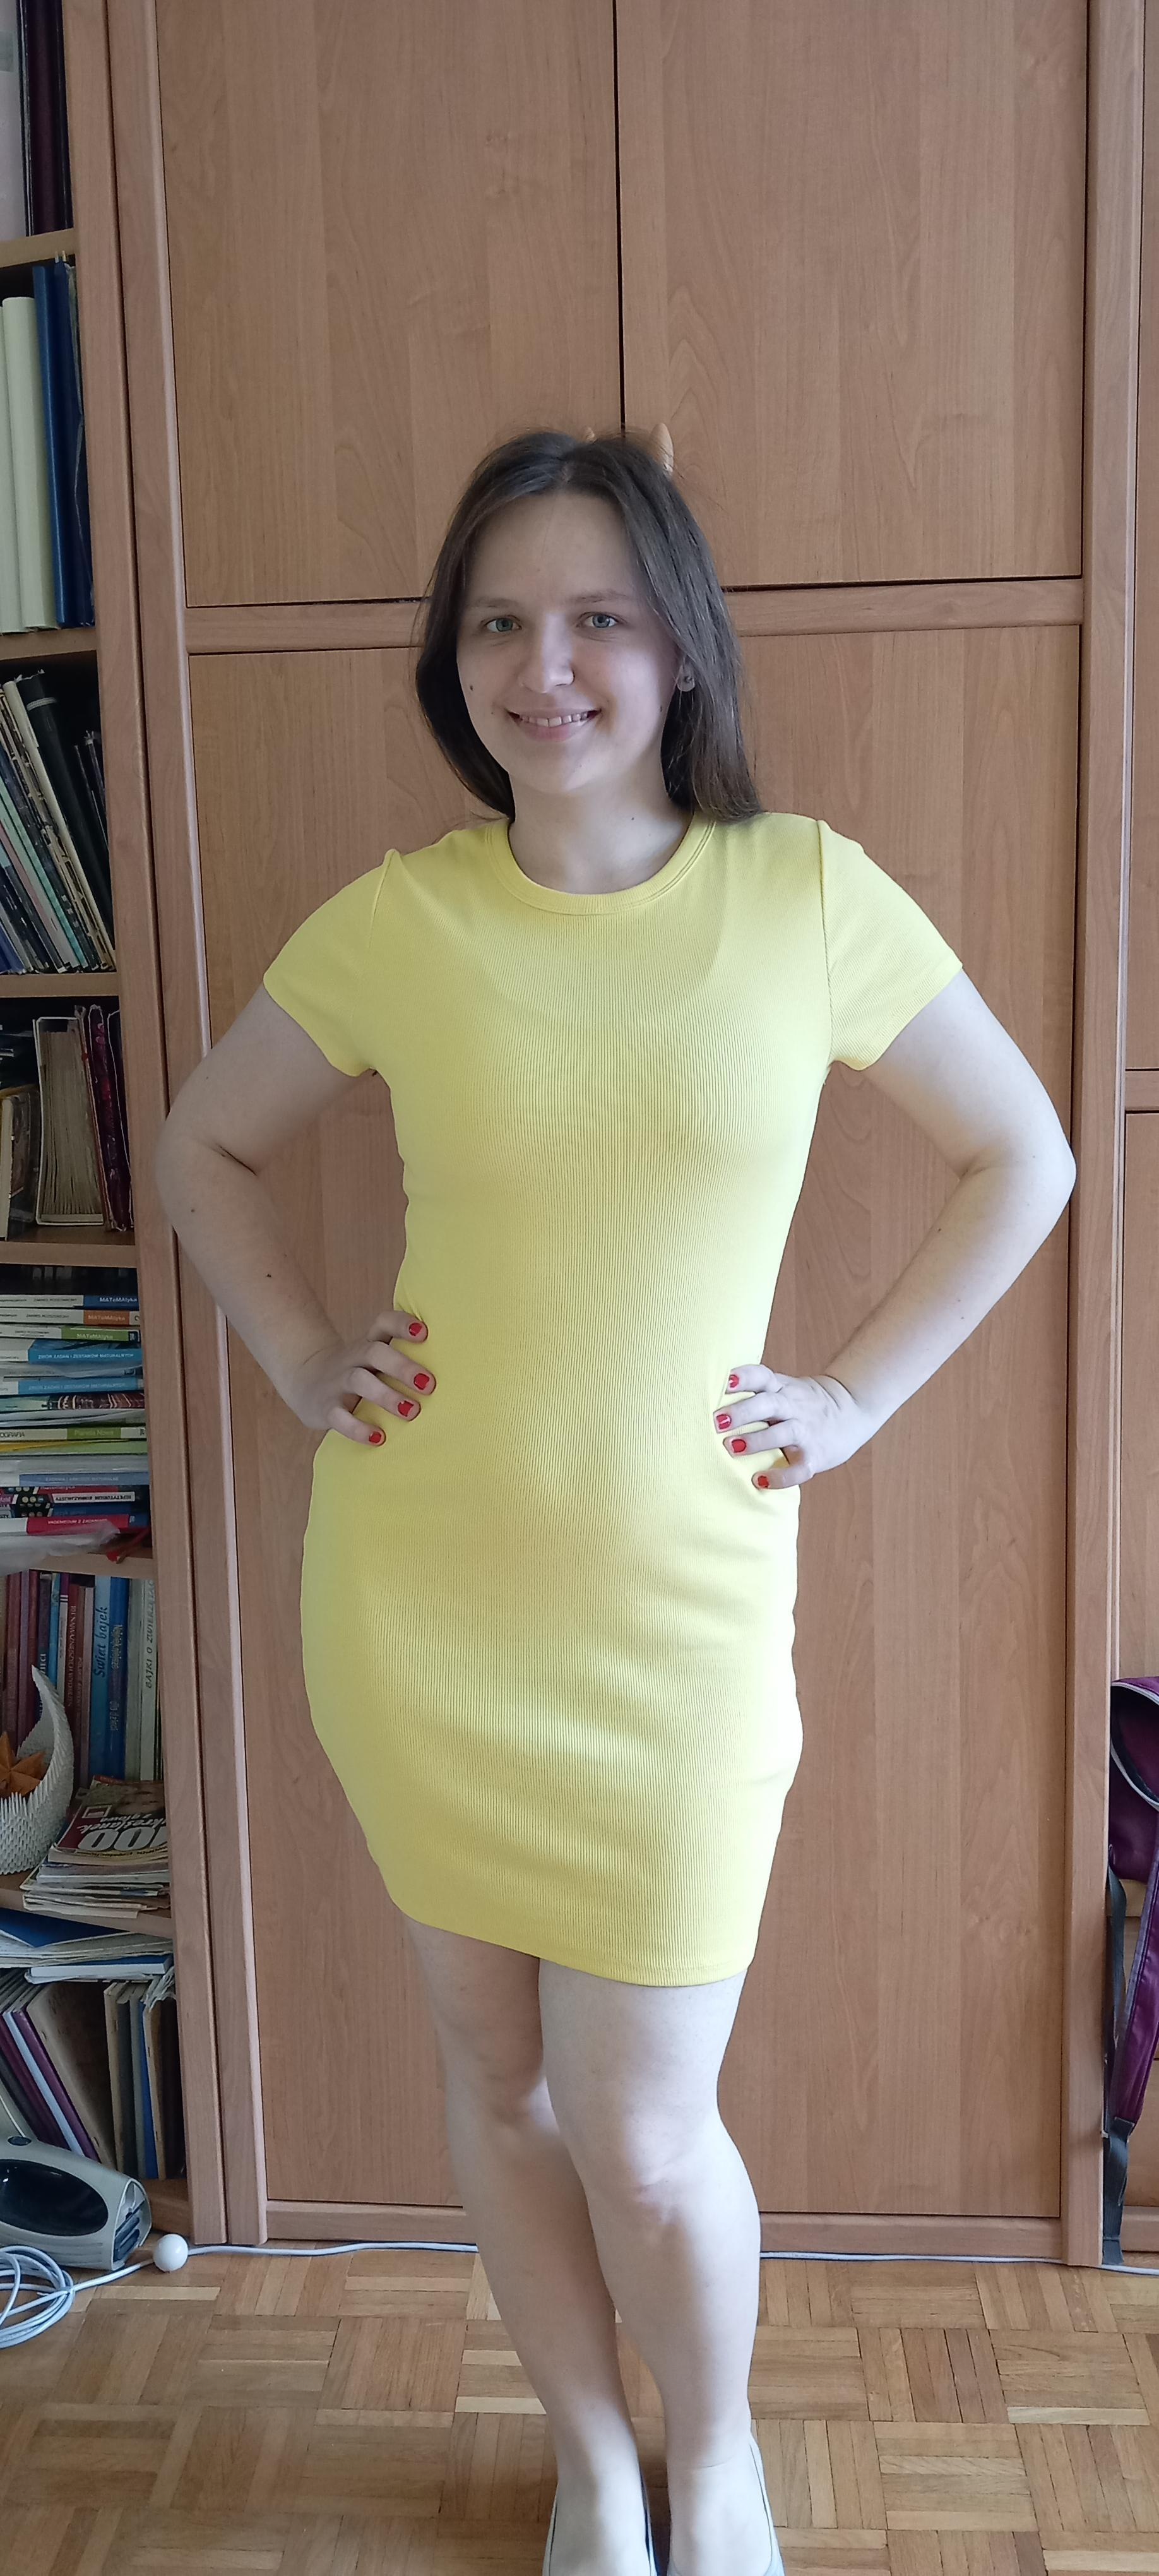dress: (266, 813, 965, 1985)
